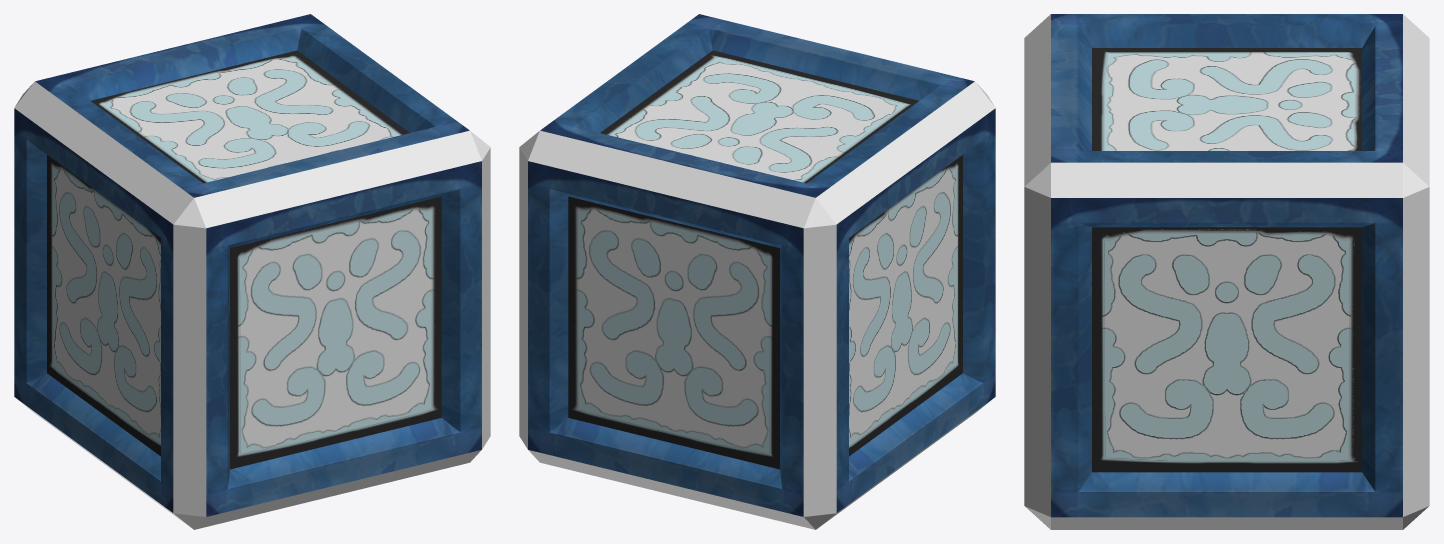
File: PushCube_Prototype.fbx
3 views of the same model, side by side, from view 1: azimuth 30°, elevation 25°; view 2: azimuth 150°, elevation 25°; view 3: azimuth 270°, elevation 25° (orthographic). The views are drawn at different scales.
Parts seen in each view (by area): view 1: PushCube; view 2: PushCube; view 3: PushCube.
Boxes of the visible parts, x1,y1,x2,y2 form: PushCube: [14, 14, 490, 529]; PushCube: [519, 14, 995, 529]; PushCube: [1024, 14, 1429, 529].
Bounding box in the file's own units: 200 × 200 × 200.
2 materials, 2 textured.
